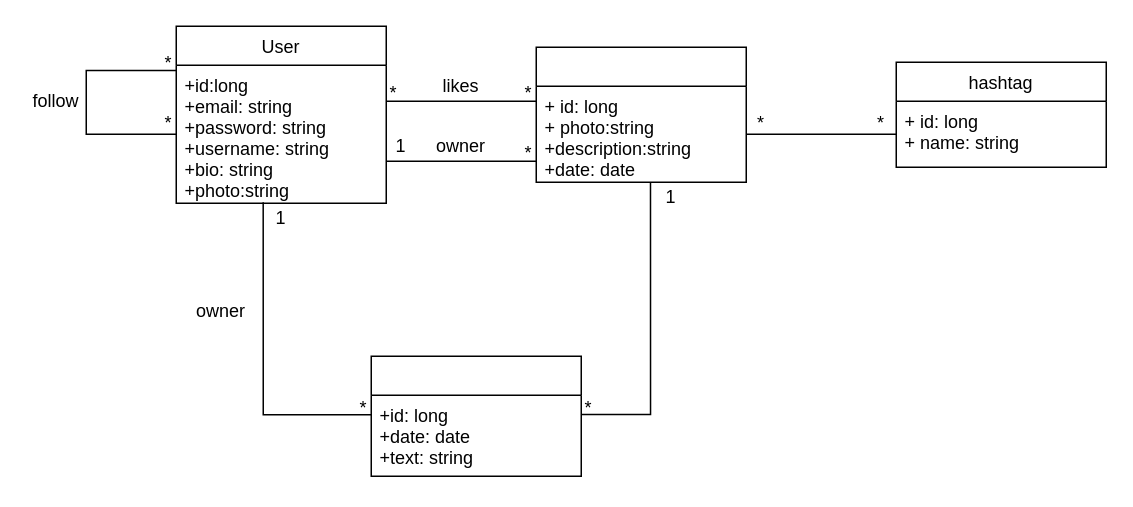
Some shapes in this 1133 by 507 pixel diagram are drawn without their labels. Each missing label, with the box of its shape:
Comment: (370, 355, 581, 476)
Publication: (535, 46, 746, 182)
